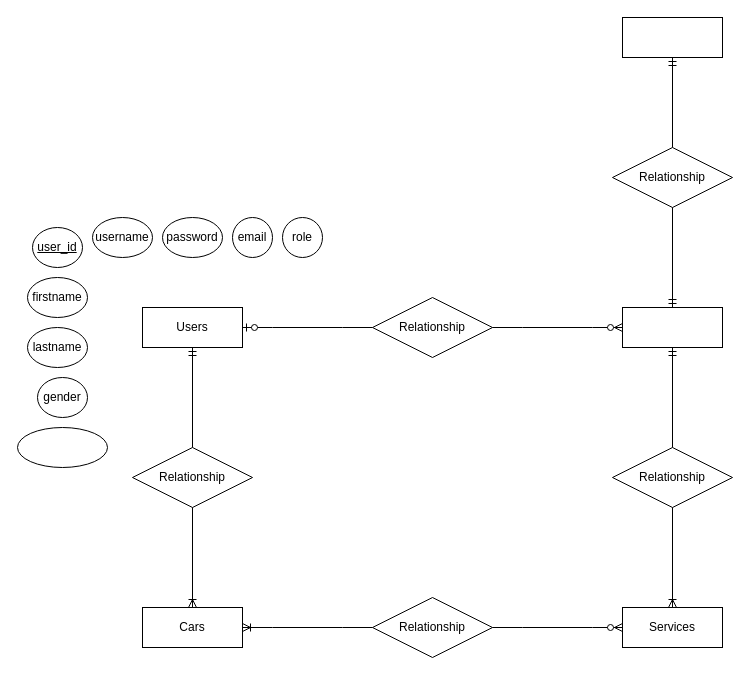
Image size: 750x675. Some labels were removed from this diagram. The centre of each missing label's shape, as x and y in pixels:
"account_status" belongs at (x=62, y=447).
"Appointments" belongs at (x=672, y=327).
"Invoices" belongs at (x=672, y=37).
